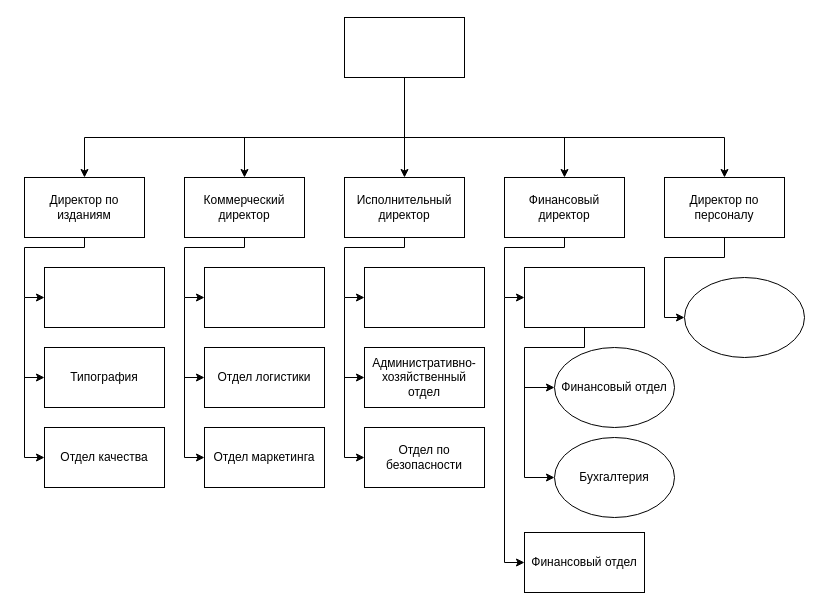
Image size: 822x610. Some labels were removed from this diagram. The centre of each missing label's shape, as x and y in pixels:
"Генеральный директор" goes at (x=404, y=47).
"Издательский отдел" goes at (x=104, y=297).
"ИТ-отдел" goes at (x=424, y=297).
"Коммерческий отдел" goes at (x=264, y=297).
"Отдел по управлению кадрами" goes at (x=744, y=317).
"Управление финансов" goes at (x=584, y=297).
